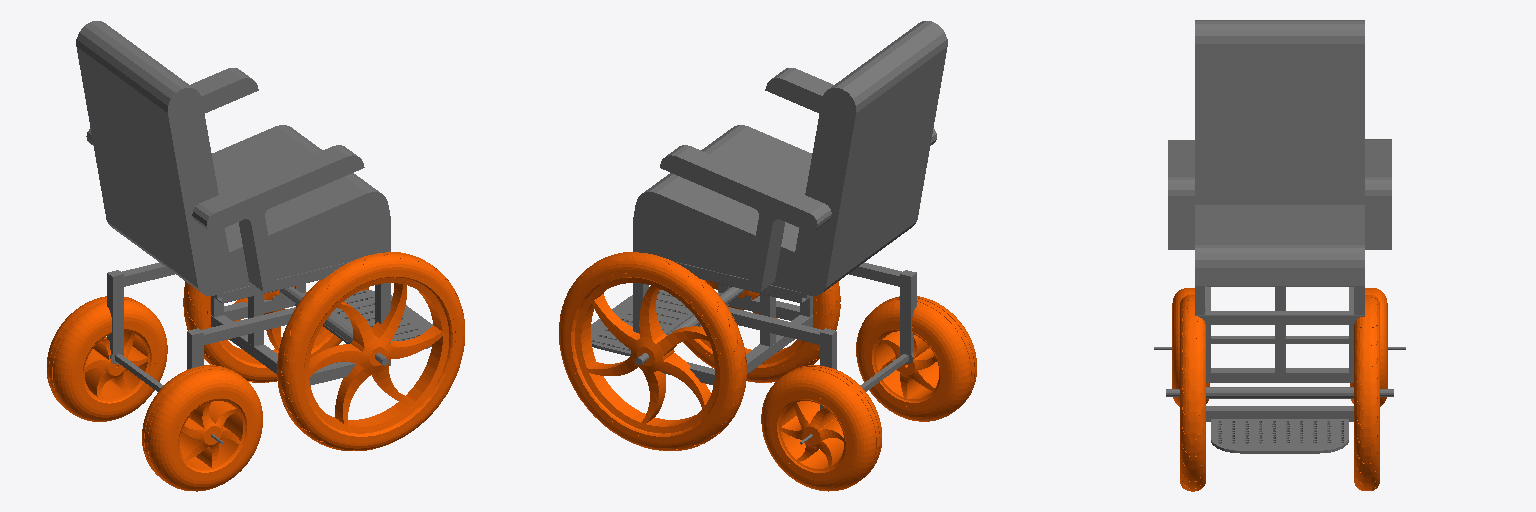
robot.urdf — chairbot:
<?xml version="1.0" encoding="utf-8"?>
<!-- This URDF was automatically created by SolidWorks to URDF Exporter! Originally created by [author] ([email redacted]) 
     Commit Version: 1.6.0-4-g7f85cfe  Build Version: 1.6.7995.38578
     For more information, please see http://wiki.ros.org/sw_urdf_exporter -->
<robot name="chairbot" xmlns:xacro="http://ros.org/wiki/xacro">

  <!-- Define materials -->
  <material name="black">
    <color rgba="0.0 0.0 0.0 1.0"/>
  </material>

  <material name="dark">
    <color rgba="0.3 0.3 0.3 1.0"/>
  </material>

  <material name="light_black">
    <color rgba="0.4 0.4 0.4 1.0"/>
  </material>

  <material name="blue">
    <color rgba="0.0 0.0 0.8 1.0"/>
  </material>

  <material name="green">
    <color rgba="0.0 0.8 0.0 1.0"/>
  </material>

  <material name="grey">
    <color rgba="0.5 0.5 0.5 1.0"/>
  </material>

  <material name="orange">
    <color rgba="1.0 0.4235 0.0392 1.0"/>
  </material>

  <material name="brown">
    <color rgba="0.8706 0.8118 0.7647 1.0"/>
  </material>

  <material name="red">
    <color rgba="0.8 0.0 0.0 1.0"/>
  </material>

  <material name="white">
    <color rgba="1.0 1.0 1.0 1.0"/>
  </material>


  <!-- Base link -->
  <link name="base_link">
    <inertial>
      <origin xyz="-0.11379893668926 0.000178018474144392 0.138093939812677" rpy="0 0 0"/>
      <mass value="54.4806116280377"/>
      <inertia ixx="2.37604544670676" ixy="-0.000504778026169325" ixz="0.737789581049573"
               iyy="2.8286967550131" iyz="0.000108266263762557" izz="2.86063434025348"/>
    </inertial>
    <visual>
      <origin xyz="0 0 0" rpy="0 0 0"/>
      <geometry>
        <mesh filename="package://turtlebot_x/meshes/base_link.dae"/>
      </geometry>
      <material name="grey"/>
    </visual>
    <collision>
      <origin xyz="0 0 0" rpy="0 0 0"/>
      <geometry>
        <mesh filename="package://turtlebot_x/meshes/base_link.dae"/>
      </geometry>
    </collision>
  </link>

  <!-- Pneu1 link -->
  <link name="pneu1_Link">
    <inertial>
      <origin xyz="5.2253E-08 0.035001 -4.5333E-07" rpy="0 0 0"/>
      <mass value="3.627"/>
      <inertia ixx="0.064382" ixy="-4.7098E-09" ixz="3.4414E-07"
               iyy="0.12611" iyz="8.1766E-09" izz="0.064383"/>
    </inertial>
    <visual>
      <origin xyz="5.2253E-08 0.035001 -4.5333E-07" rpy="0 0 0"/>
      <geometry>
        <mesh filename="package://turtlebot_x/meshes/pneu1_Link.dae"/>
      </geometry>
      <material name="orange"/>
    </visual>
    <collision>
      <origin xyz="5.2253E-08 0.035001 -4.5333E-07" rpy="0 0 0"/>
      <geometry>
        <mesh filename="package://turtlebot_x/meshes/pneu1_Link.dae"/>
      </geometry>
    </collision>
  </link>
  <joint name="pneu1_joint" type="revolute">
    <origin xyz="0.21158 -0.3 -0.29144" rpy="0 0 0"/>
    <parent link="base_link"/>
    <child link="pneu1_Link"/>
    <axis xyz="0 -1 0"/>
    <limit effort="1000.0" velocity="1.0"/>
    <dynamics damping="0.01" friction="0.01"/>
  </joint>

  <!-- Pneu2 link -->
  <link name="pneu2_Link">
    <inertial>
      <origin xyz="2.7071E-07 -0.034999 -3.8705E-07" rpy="1.57 0 0"/>
      <mass value="3.627"/>
      <inertia ixx="0.064382" ixy="-9.2929E-09" ixz="3.9067E-08"
               iyy="0.12611" iyz="4.584E-09" izz="0.064383"/>
    </inertial>
    <visual>
      <origin xyz="2.7071E-07 -0.034999 -3.8705E-07" rpy="0 0 0"/>
      <geometry>
        <mesh filename="package://turtlebot_x/meshes/pneu2_Link.dae"/>
      </geometry>
      <material name="orange"/>
    </visual>
    <collision>
      <origin xyz="2.7071E-07 -0.034999 -3.8705E-07" rpy="0 0 0"/>
      <geometry>
        <mesh filename="package://turtlebot_x/meshes/pneu2_Link.dae"/>
      </geometry>
    </collision>
  </link>
  <joint name="pneu2_joint" type="revolute">
    <origin xyz="0.21158 0.3 -0.29144" rpy="0 0 0"/>
    <parent link="base_link"/>
    <child link="pneu2_Link"/>
    <axis xyz="0 1 0"/>
    <limit effort="1000.0" velocity="1.0"/>
    <dynamics damping="0.01" friction="0.01"/>
  </joint>

  <!-- IMU link -->
  <link name="imu_link"/>

  <joint name="imu_joint" type="fixed">
    <origin xyz="0.0 0 0.068" rpy="0 0 0"/>
    <parent link="base_link"/>
    <child link="imu_link"/>
  </joint>

  <!-- Pneu3 link -->
  <link name="pneu3_Link">
    <inertial>
      <origin xyz="-0.00033284 -0.05 -0.00036323" rpy="0 0 0"/>
      <mass value="2.8006"/>
      <inertia ixx="0.020147" ixy="-1.4565E-09" ixz="7.4949E-07"
               iyy="0.034868" iyz="7.7795E-09" izz="0.020147"/>
    </inertial>
    <visual>
      <origin xyz="-0.00033284 -0.05 -0.00036323" rpy="0 0 0"/>
      <geometry>
        <mesh filename="package://turtlebot_x/meshes/pneu3_Link.dae"/>
      </geometry>
      <material name="orange"/>
    </visual>
    <collision>
      <origin xyz="-0.00033284 -0.05 -0.00036323" rpy="0 0 0"/>
      <geometry>
        <mesh filename="package://turtlebot_x/meshes/pneu3_Link.dae"/>
      </geometry>
    </collision>
  </link>
  <joint name="pneu3_joint" type="revolute">
    <origin xyz="-0.26967 0.33379 -0.38574" rpy="0 0 0"/>
    <parent link="base_link"/>
    <child link="pneu3_Link"/>
    <axis xyz="0 1 0"/>
    <limit effort="1000.0" velocity="1.0"/>
    <dynamics damping="0.01" friction="0.01"/>
  </joint>

  <!-- Pneu4 link -->
  <link name="pneu4_Link">
    <inertial>
      <origin xyz="0.000333 0.05 -0.000363" rpy="0 0 0"/>
      <mass value="3.0"/>
      <inertia ixx="0.020147" ixy="-1.4565e-09" ixz="7.4949e-07"
               iyy="0.034868" iyz="7.7795e-09" izz="0.020147"/>
    </inertial>
    <visual>
      <origin xyz="0.000333 0.05 -0.000363" rpy="0 0 0"/>
      <geometry>
        <mesh filename="package://turtlebot_x/meshes/pneu4_Link.dae"/>
      </geometry>
      <material name="orange"/>
    </visual>
    <collision>
      <origin xyz="0 0 0" rpy="0 0 0"/>
      <geometry>
        <mesh filename="package://turtlebot_x/meshes/pneu4_Link.dae"/>
      </geometry>
    </collision>
  </link>
  <joint name="pneu4_joint" type="revolute">
    <origin xyz="-0.26967 -0.3338 -0.38574" rpy="0 0 0"/>
    <parent link="base_link"/>
    <child link="pneu4_Link"/>
    <axis xyz="0 -1 0"/>
    <limit effort="1000.0" velocity="1.0"/>
    <dynamics damping="0.01" friction="0.01"/>
  </joint>

  <!-- Base scan link -->
  <link name="base_scan">
    <inertial>
      <mass value="0.114"/>
      <origin xyz="0 0 0"/>
      <inertia ixx="0.001" ixy="0.0" ixz="0.0"
               iyy="0.001" iyz="0.0" izz="0.001"/>
    </inertial>
    <visual>
      <origin xyz="0 0 0" rpy="0 0 0"/>
      <geometry>
        <mesh filename="package://turtlebot3_gazebo/models/turtlebot3_common/meshes/lds.dae" scale="0.001 0.001 0.001"/>
      </geometry>
      <material name="dark"/>
    </visual>
    <collision>
      <origin xyz="0.015 0 -0.0065" rpy="0 0 0"/>
      <geometry>
        <cylinder length="0.0315" radius="0.055"/>
      </geometry>
    </collision>
  </link>
  <joint name="scan_joint" type="fixed">
    <parent link="base_link"/>
    <child link="base_scan"/>
    <origin xyz="0.1 0 0.175" rpy="0 0 0"/>
  </joint>

</robot>

--- Facts derived from the render (not from the file) ---
3 views of the same robot in one strip: view 1: azimuth 30°, elevation 25°; view 2: azimuth 150°, elevation 25°; view 3: azimuth 270°, elevation 25° (orthographic).
Model chairbot with 7 links and 6 joints (4 revolute, 2 fixed), rooted at base_link, posed every joint at zero.
Visible links, largest first — view 1: base_link, pneu1_Link, pneu4_Link, pneu3_Link, pneu2_Link; view 2: base_link, pneu2_Link, pneu3_Link, pneu4_Link, pneu1_Link; view 3: base_link, pneu1_Link, pneu2_Link, pneu4_Link, pneu3_Link.
Link boxes in pixels (x1,y1,x2,y2): base_link: [76, 21, 432, 444]; pneu1_Link: [277, 252, 464, 450]; pneu4_Link: [142, 365, 262, 491]; pneu3_Link: [47, 296, 167, 421]; pneu2_Link: [183, 281, 368, 382]; base_link: [591, 21, 947, 444]; pneu2_Link: [559, 252, 746, 450]; pneu3_Link: [761, 365, 881, 491]; pneu4_Link: [856, 296, 976, 421]; pneu1_Link: [659, 280, 840, 382]; base_link: [1154, 20, 1405, 453]; pneu1_Link: [1180, 295, 1205, 491]; pneu2_Link: [1354, 295, 1379, 490]; pneu4_Link: [1172, 288, 1209, 406]; pneu3_Link: [1350, 288, 1387, 406].
Bounding box of the posed robot: 0.9016 × 0.6676 × 1.09 m (x, y, z).
5 mesh visuals loaded from 6 distinct referenced files (5 Collada DAE); not drawn: 1 (reference not matched to a file when rendering).